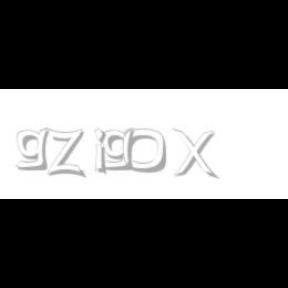O: (122, 128, 168, 174)
X: (172, 128, 216, 180)
Z: (46, 128, 84, 178)
g: (16, 128, 52, 171), (102, 128, 138, 171)
i: (94, 128, 110, 176)
